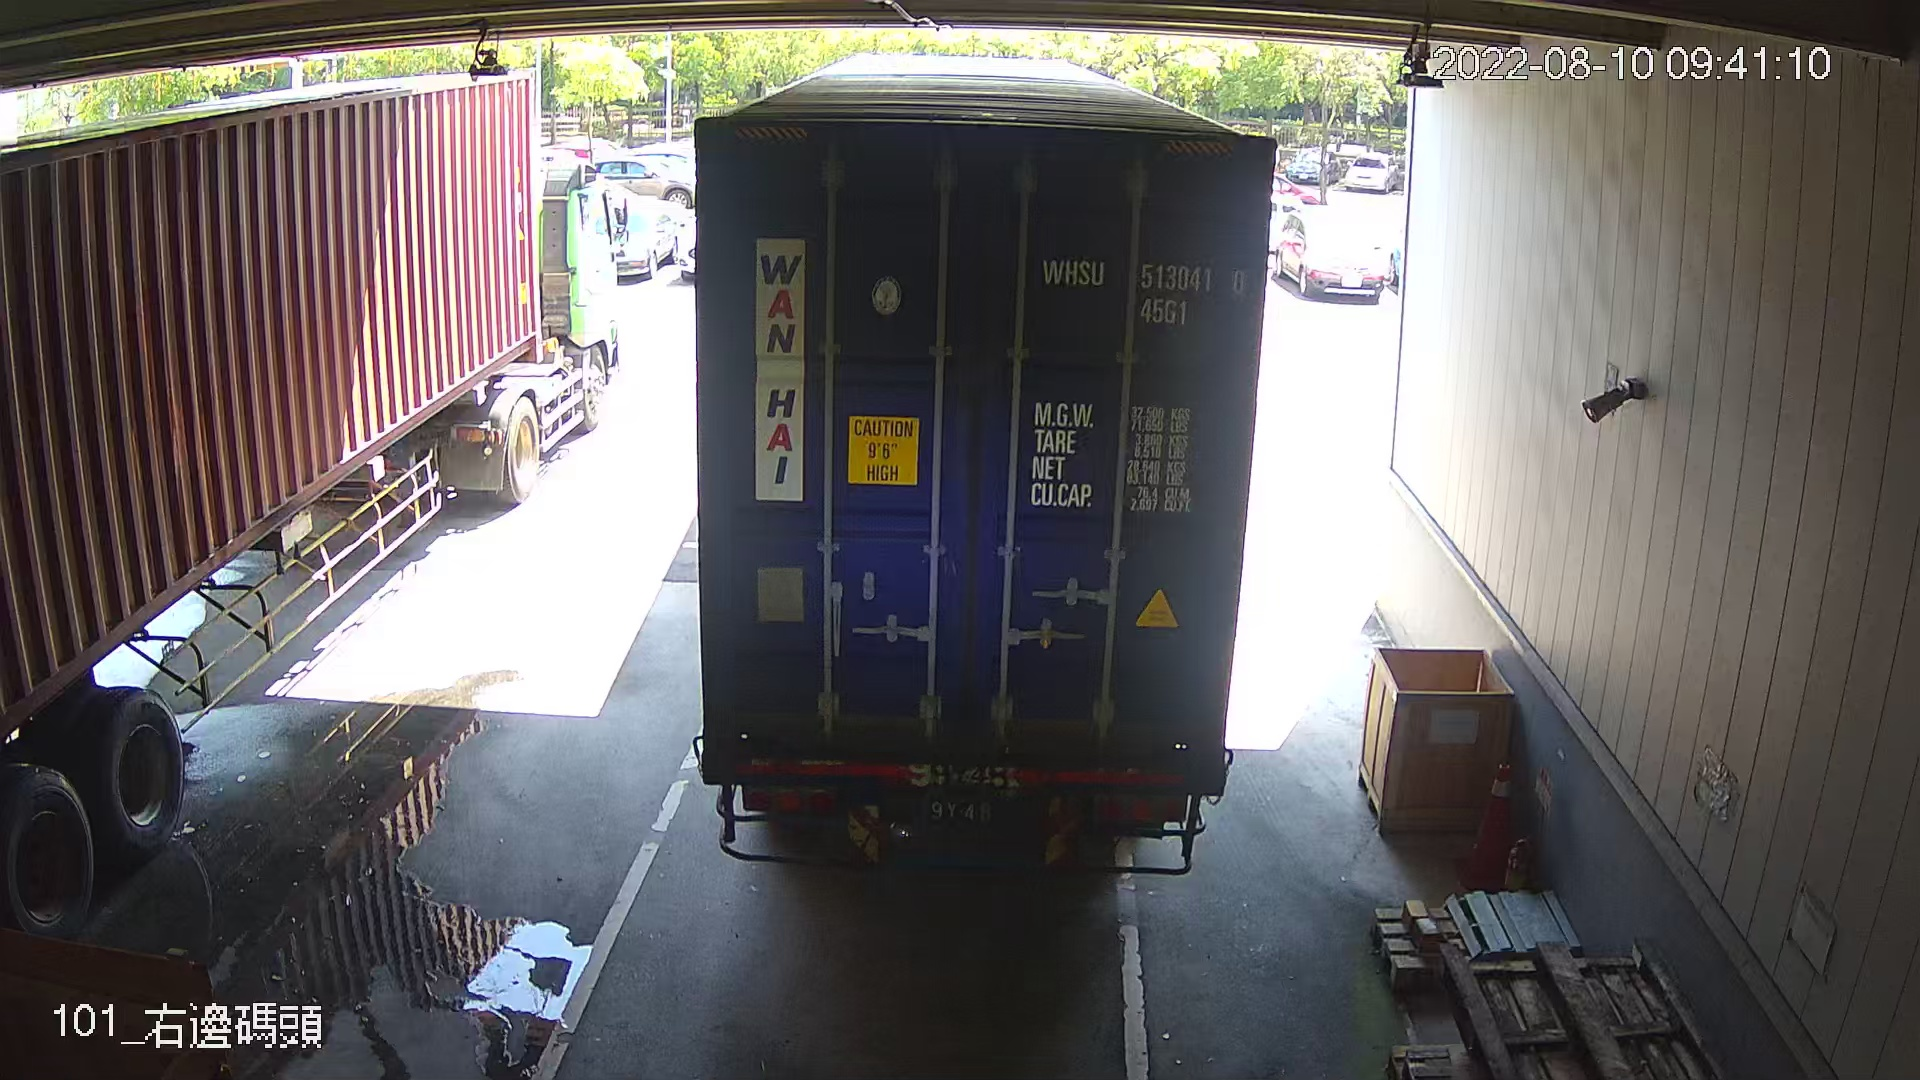container: (1034, 248, 1254, 336)
